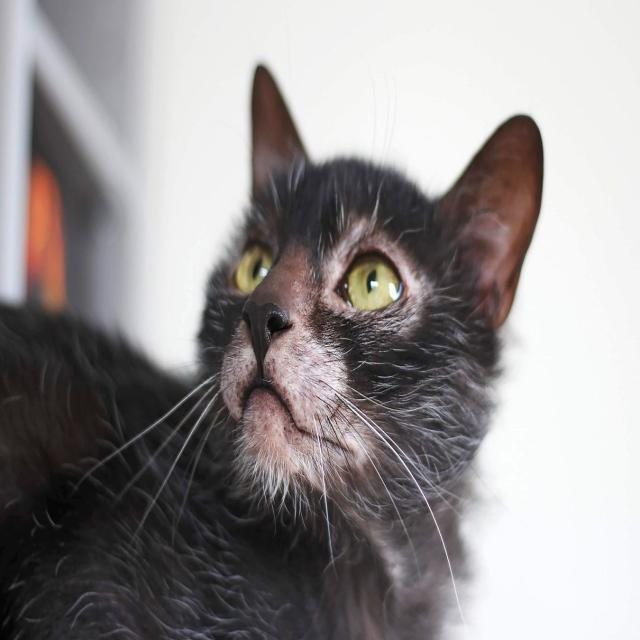Lykoi: (0, 53, 549, 639)
